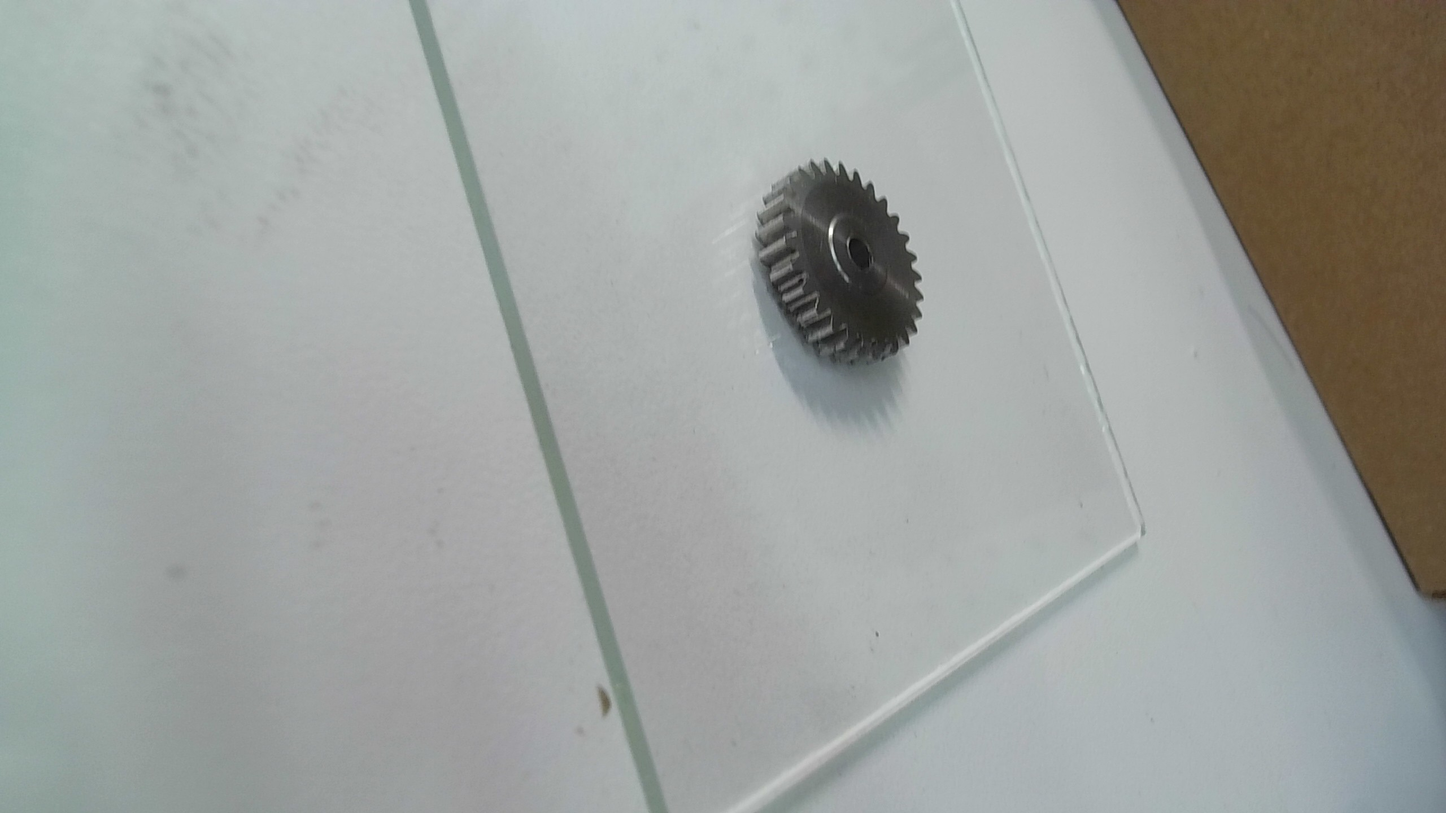gear: (756, 156, 927, 369)
